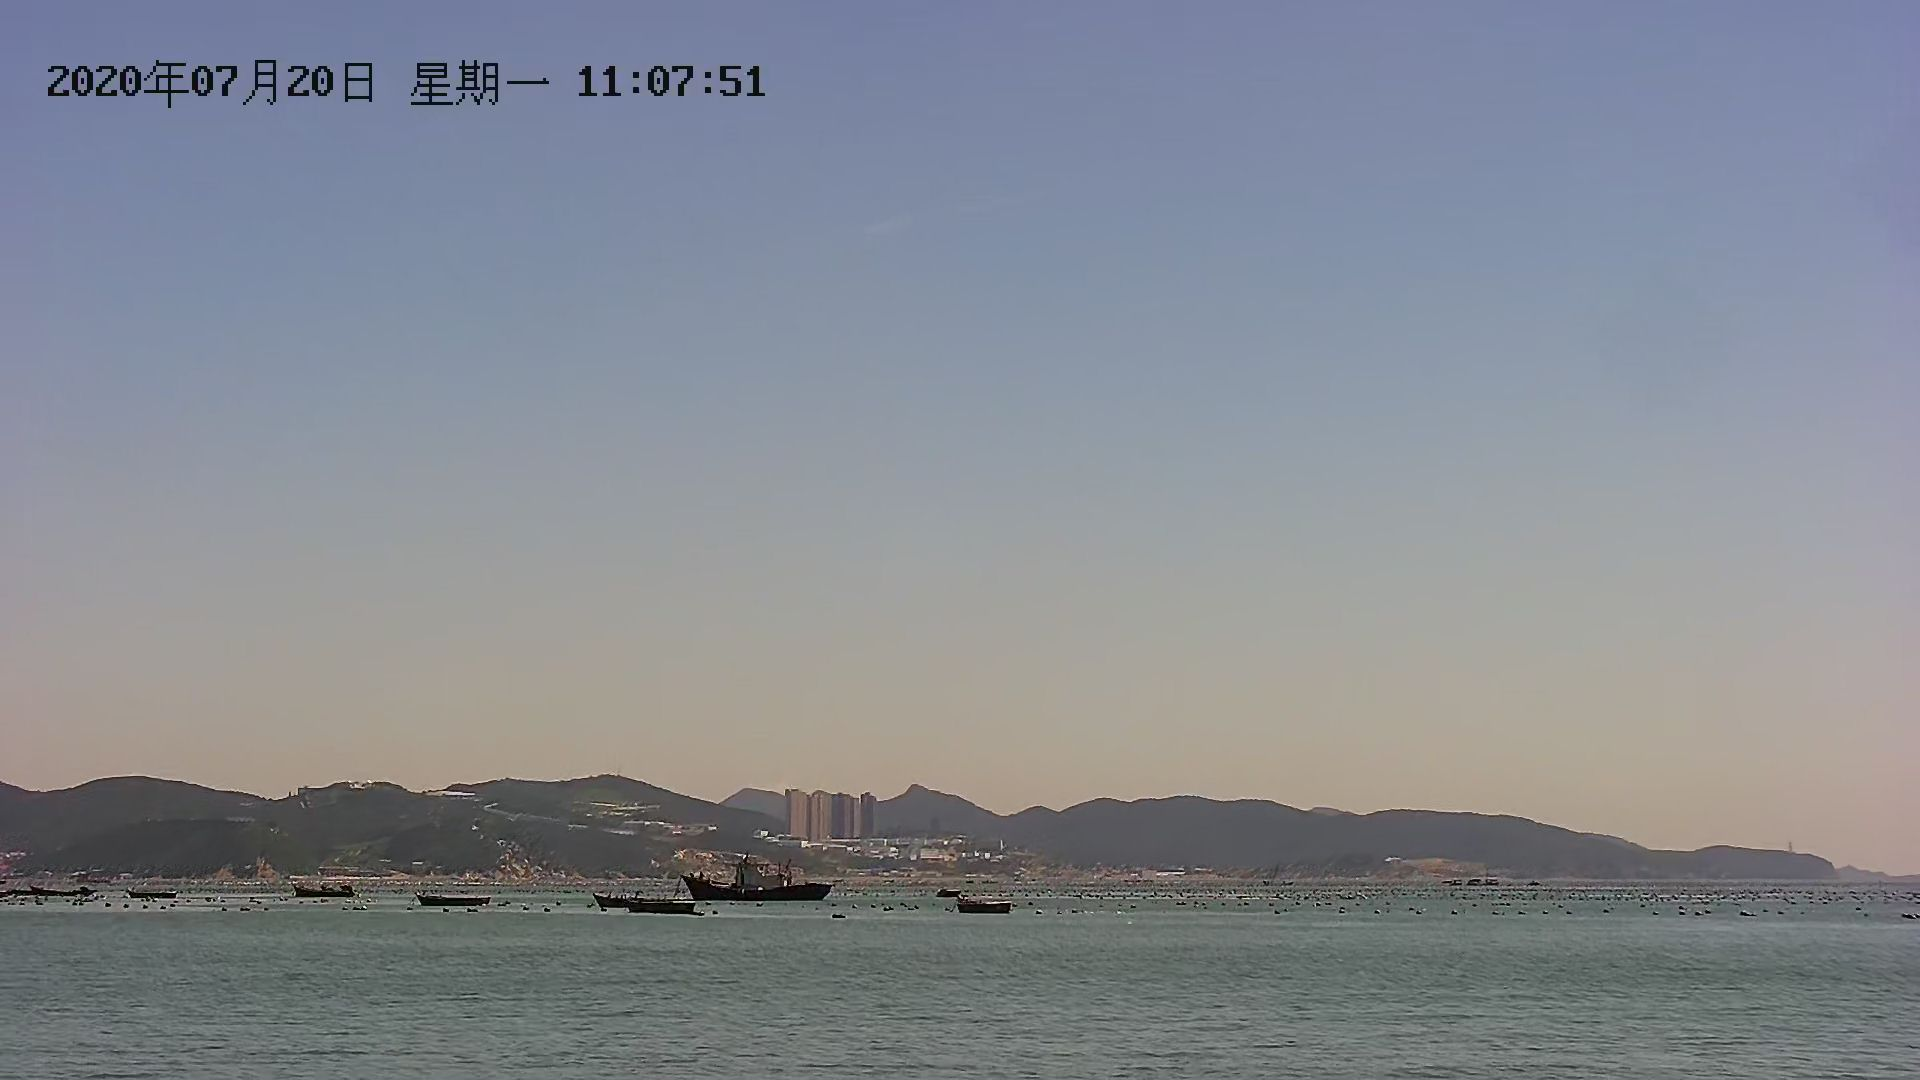boat: (686, 862, 833, 903), (629, 899, 715, 919), (289, 885, 375, 905), (942, 894, 1029, 913), (15, 881, 102, 899), (409, 887, 495, 906), (119, 886, 189, 902)
